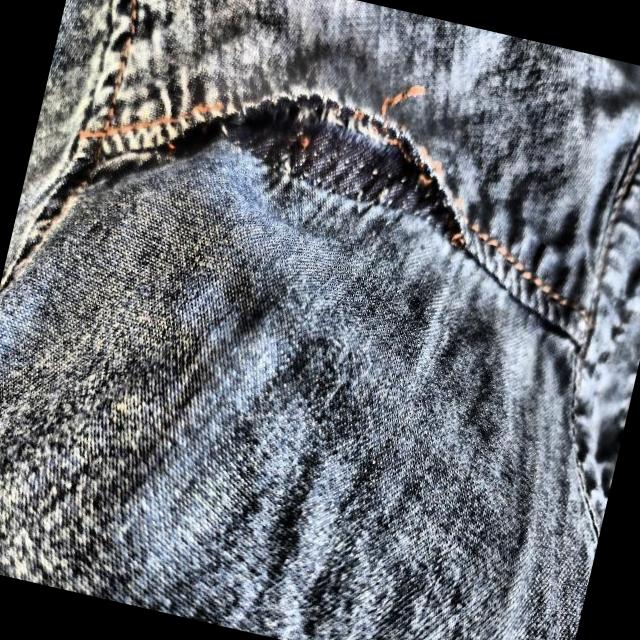gray stitch: (147, 70, 488, 262)
